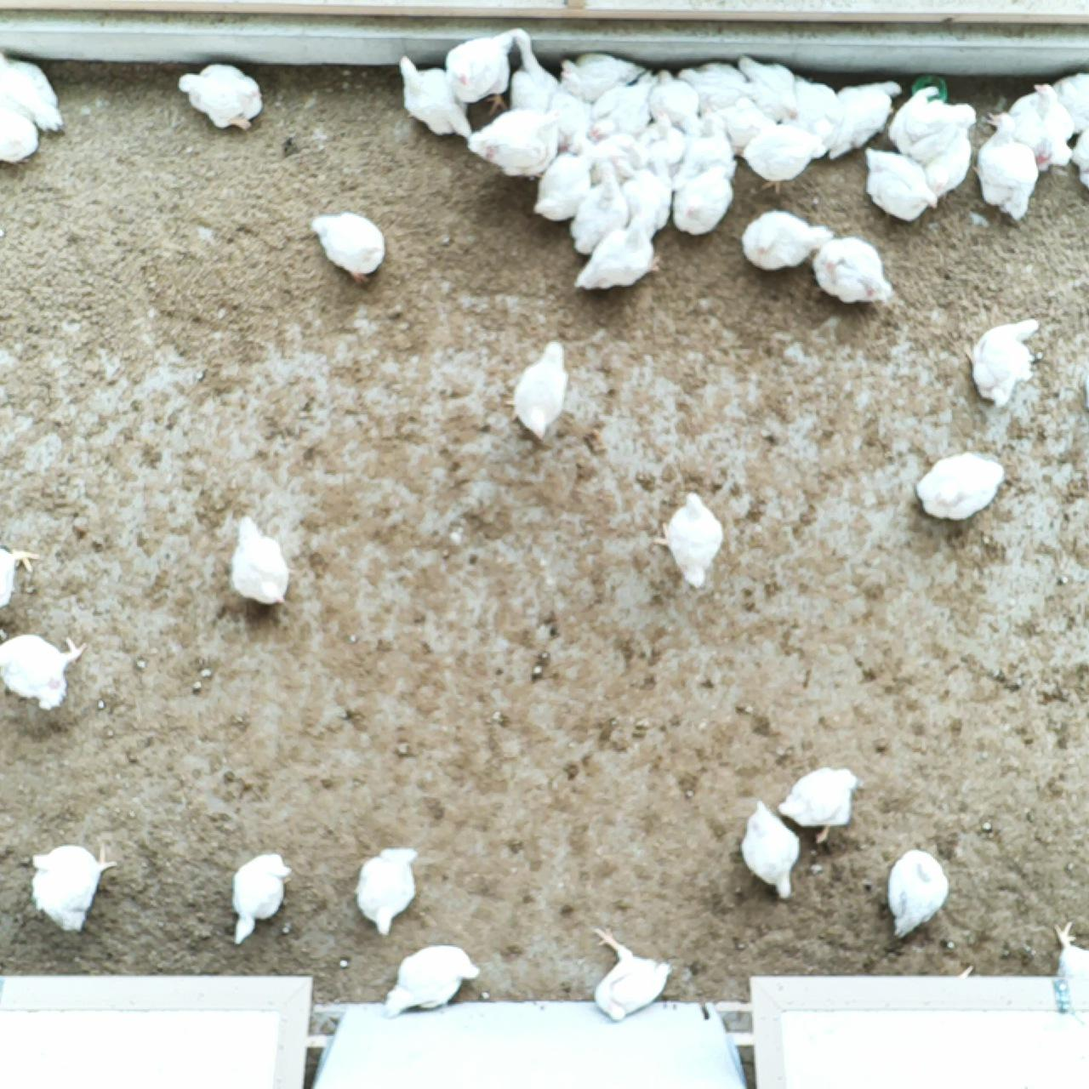chicken: (29, 840, 119, 935), (588, 927, 675, 1022), (379, 941, 482, 1021), (959, 315, 1042, 412), (463, 105, 565, 182), (970, 109, 1038, 224), (500, 336, 571, 445), (651, 489, 727, 590), (776, 765, 868, 846), (395, 51, 476, 143), (573, 211, 663, 292), (736, 797, 805, 902), (913, 447, 1007, 524), (0, 632, 89, 710), (225, 852, 295, 948), (443, 29, 520, 116), (176, 59, 266, 133), (881, 847, 953, 939), (738, 121, 827, 195), (227, 512, 293, 610), (860, 144, 939, 225), (310, 210, 391, 289), (827, 79, 903, 162), (352, 843, 418, 937), (741, 208, 834, 272), (811, 235, 896, 305), (1008, 80, 1074, 170), (567, 166, 630, 256), (0, 51, 67, 134), (586, 70, 658, 144), (906, 98, 981, 164), (673, 161, 736, 238), (615, 155, 673, 235), (531, 151, 595, 223), (505, 30, 557, 114), (558, 51, 647, 100), (736, 52, 798, 121), (1044, 916, 1089, 1010), (711, 95, 778, 155), (674, 125, 734, 191), (647, 67, 704, 136), (673, 59, 747, 108), (888, 85, 939, 156), (925, 125, 972, 202), (567, 132, 641, 180), (793, 76, 844, 139), (550, 69, 593, 138), (637, 108, 688, 165), (0, 543, 42, 611), (0, 101, 41, 166), (1051, 70, 1089, 135), (1069, 126, 1089, 191)
